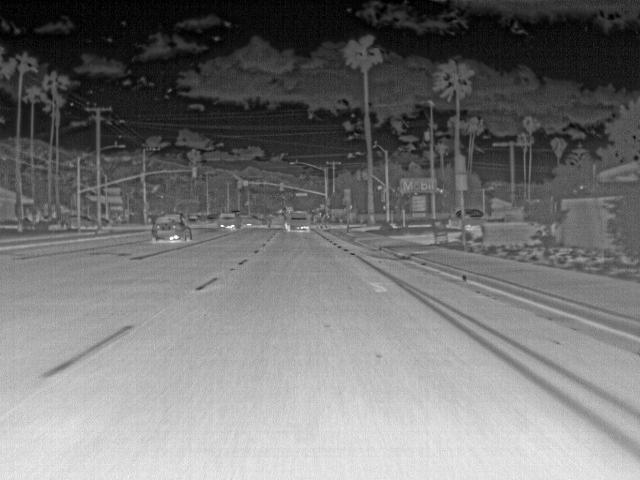car: (148, 212, 192, 242), (451, 206, 487, 232), (214, 209, 242, 232), (285, 209, 309, 231), (242, 213, 262, 226), (82, 213, 97, 226), (203, 211, 216, 224), (196, 212, 207, 222), (188, 215, 199, 225)
person: (264, 213, 277, 228)
